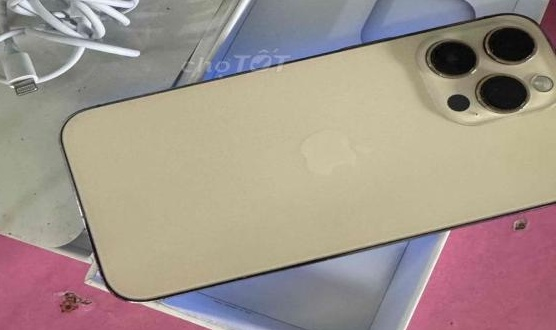scratch: (67, 185, 97, 253)
